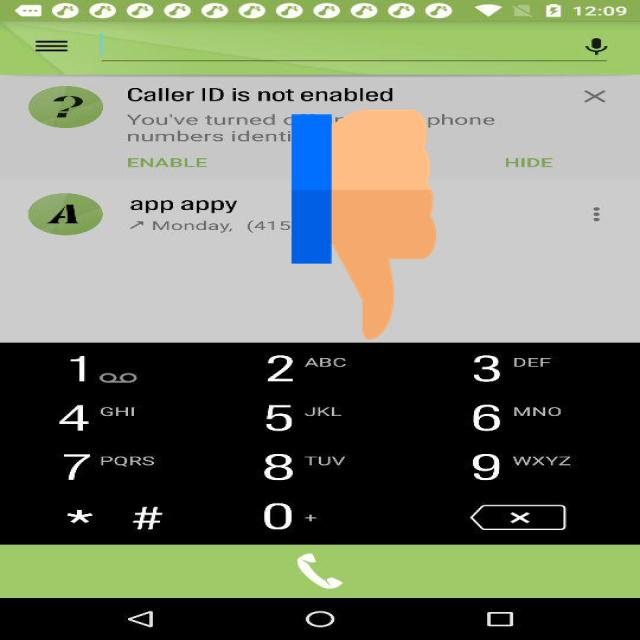obstruction: (292, 104, 436, 345)
